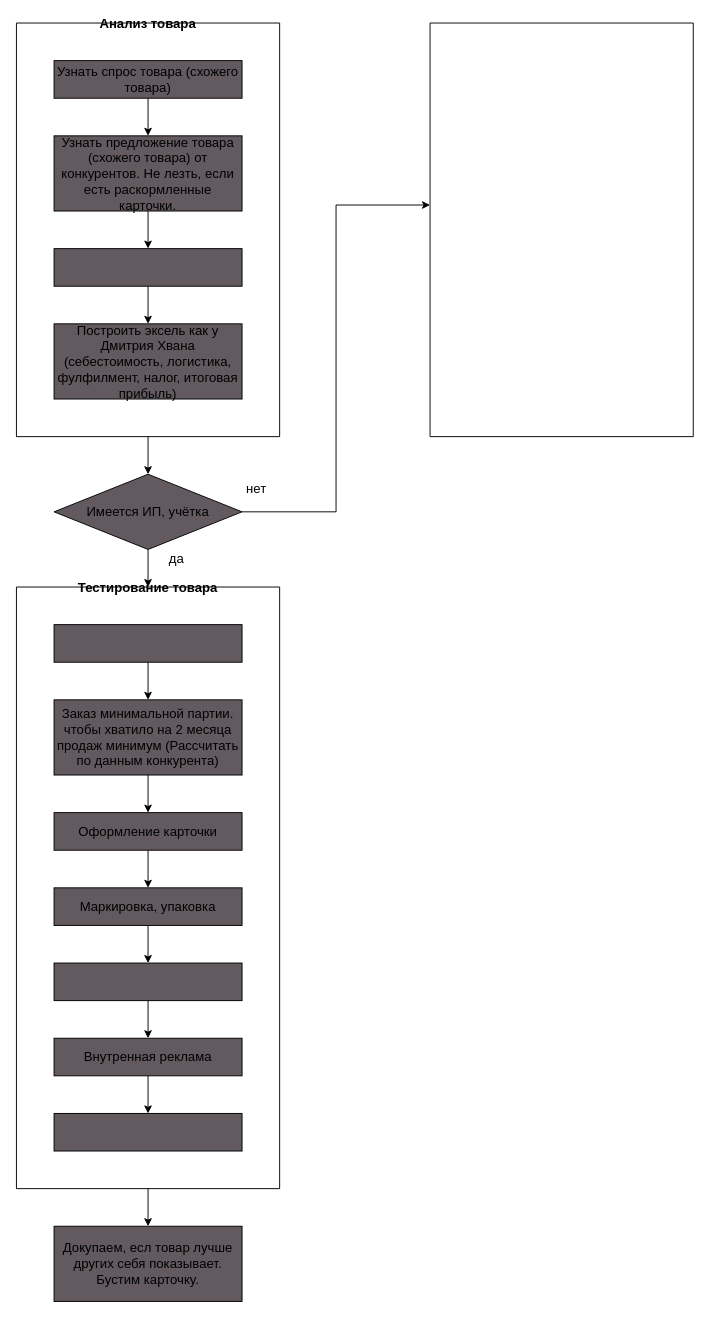
This 710x1318 diagram has some shape labels left out. The shapes that lost their labels are listed below. From the top down, each one's centre as x and y in pixels, then its label:
At point (561, 229): "Создание ИП, регистрация".
At point (147, 267): "Найти поставщика".
At point (147, 643): "Оформление сертивиката".
At point (147, 981): "Упаковка в коробки, отгрузка".
At point (147, 1131): "Самовыкупы, само-отзывы".
